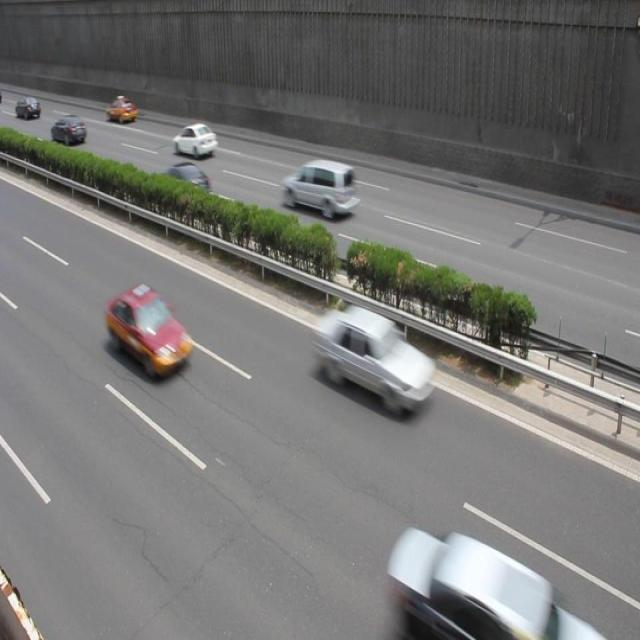car: (396, 527, 578, 640), (313, 306, 438, 414), (107, 281, 196, 378), (154, 162, 213, 208), (174, 124, 218, 159), (51, 114, 87, 147), (106, 95, 138, 127)
truck: (281, 160, 359, 219)
